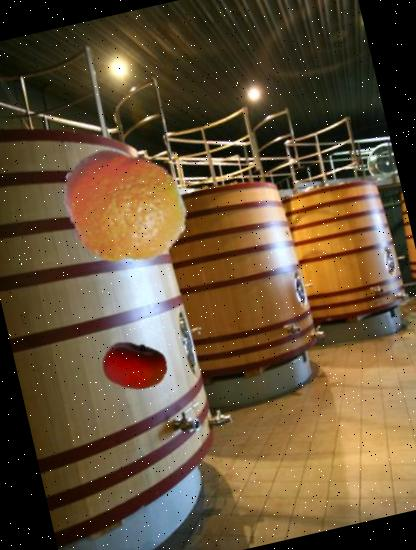Mandarine: (44, 130, 200, 286)
Nectarine: (95, 326, 174, 405)
